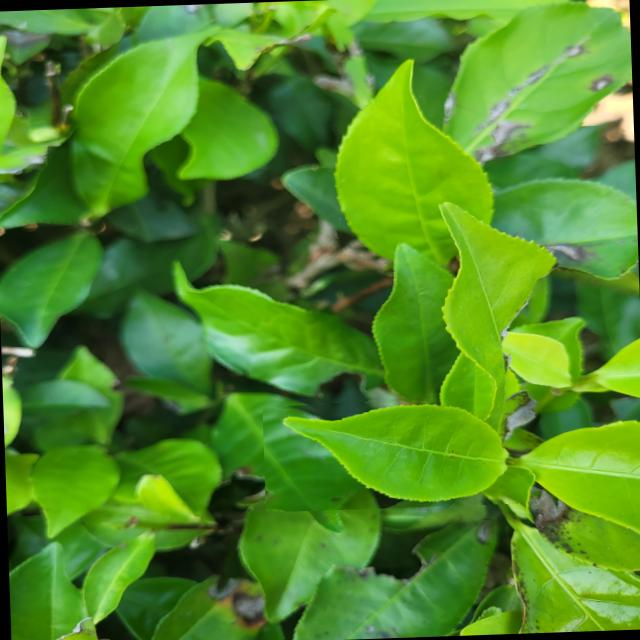Catagory A(1-2 days): (262, 389, 520, 512)
